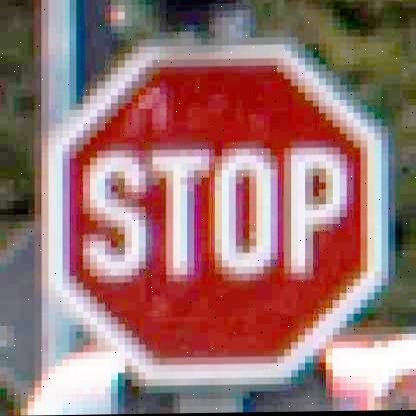Stop Sign: (49, 35, 398, 385)
